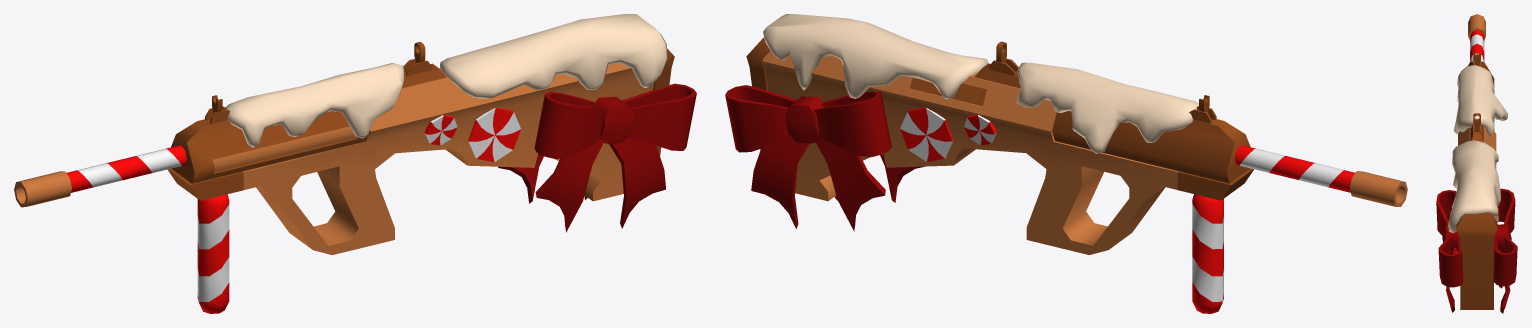
The model's file is gingeraugcolored2.obj.
The picture shows the model from 3 angles, left to right: view 1: azimuth 30°, elevation 25°; view 2: azimuth 150°, elevation 25°; view 3: azimuth 270°, elevation 25°; orthographic projection. The views are drawn at different scales.
Parts seen in each view (by area): view 1: gingeraug_from_studio; view 2: gingeraug_from_studio; view 3: gingeraug_from_studio.
Part boxes in pixels (x1,y1,x2,y2): gingeraug_from_studio: [14, 14, 696, 313]; gingeraug_from_studio: [725, 14, 1407, 313]; gingeraug_from_studio: [1436, 14, 1517, 313].
Size of the model in its own units: 4.03 by 1.27 by 0.666.
